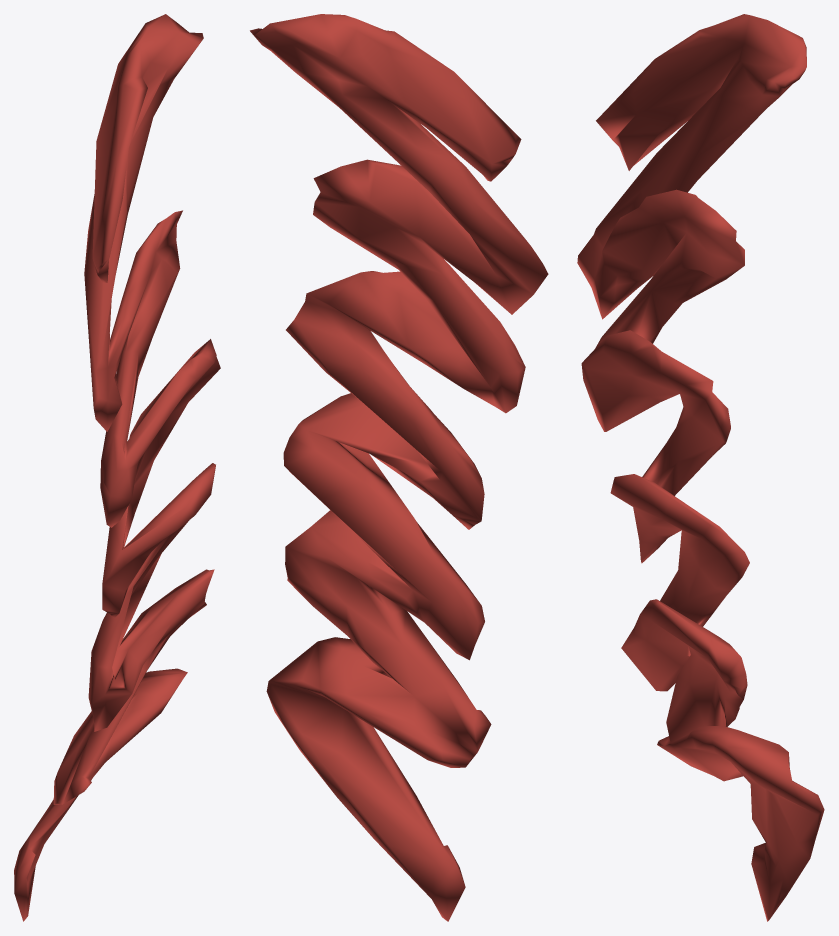
Rendered from musculos-multifidus-colli-muscle-r.glb.
3 renders of one model, left to right at view 1: azimuth 30°, elevation 25°; view 2: azimuth 150°, elevation 25°; view 3: azimuth 270°, elevation 25°, orthographic. The views are drawn at different scales.
Visible parts, largest first — view 1: Multifidus colli muscle.r; view 2: Multifidus colli muscle.r; view 3: Multifidus colli muscle.r.
Boxes of the visible parts, x1,y1,x2,y2 form: Multifidus colli muscle.r: (14, 14, 220, 921); Multifidus colli muscle.r: (250, 14, 548, 921); Multifidus colli muscle.r: (577, 14, 824, 921).
Bounding box in the file's own units: 0.024 × 0.0981 × 0.0226.
